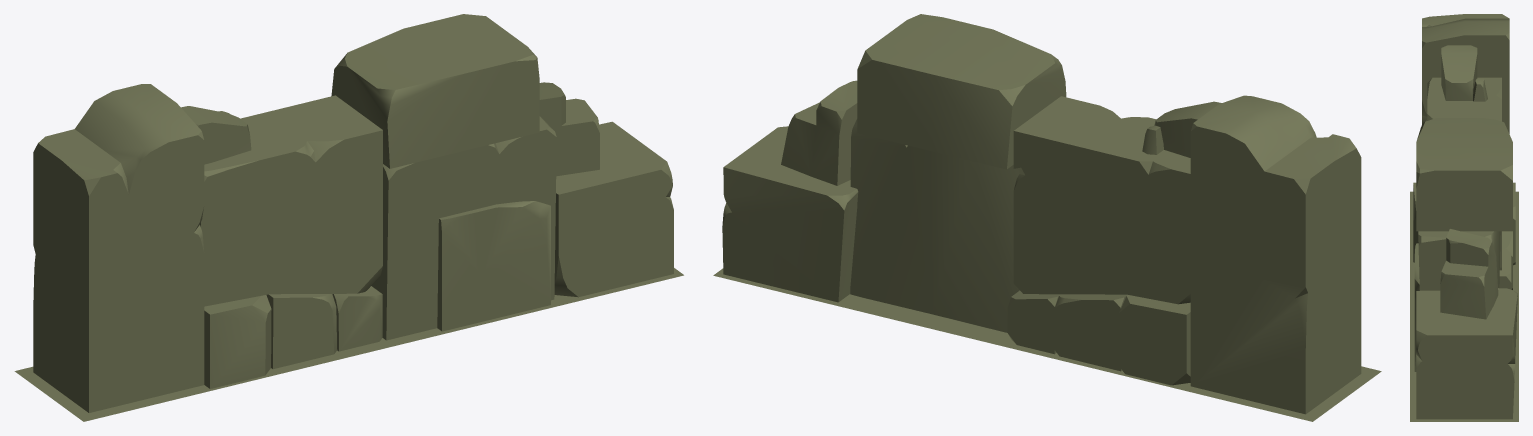
Rendered from OBJ_MIDRock_03.FBX.
3 views of the same model, side by side, from view 1: azimuth 30°, elevation 25°; view 2: azimuth 150°, elevation 25°; view 3: azimuth 270°, elevation 25° (orthographic). The views are drawn at different scales.
Visible parts, largest first — view 1: OBJ_MIDRock_03; view 2: OBJ_MIDRock_03; view 3: OBJ_MIDRock_03.
Part boxes in pixels (<box>): OBJ_MIDRock_03: <box>14,14,683,421</box>; OBJ_MIDRock_03: <box>713,14,1381,421</box>; OBJ_MIDRock_03: <box>1410,14,1518,421</box>.
Bounding box in the file's own units: 30 × 12.55 × 6.
